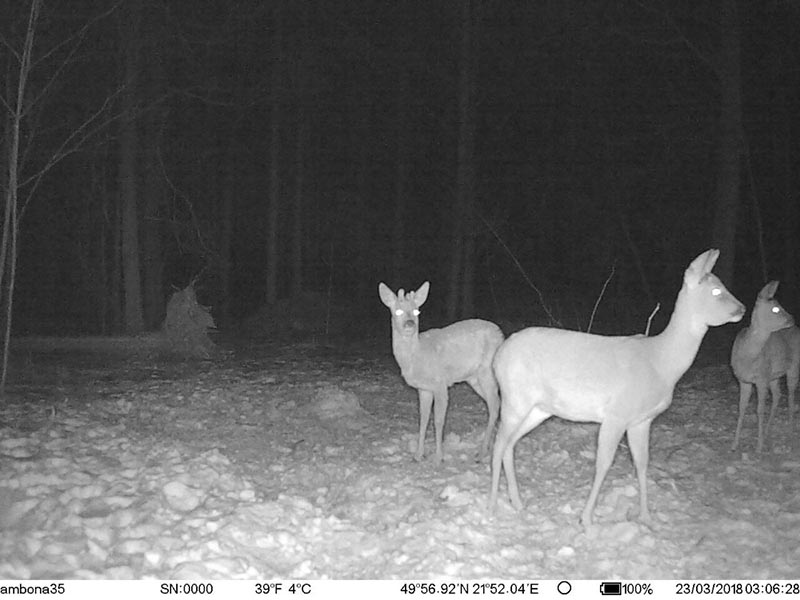cervo: (484, 248, 748, 523), (373, 282, 510, 458), (724, 277, 793, 448)
